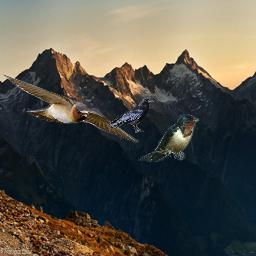Crow: (107, 97, 154, 133)
Swallow: (0, 71, 139, 143), (138, 114, 199, 162)
